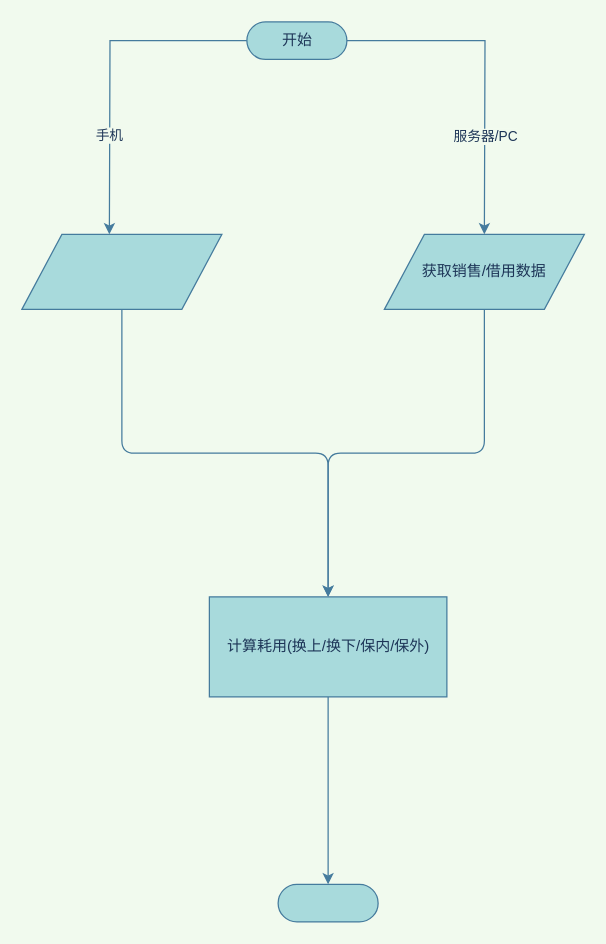
This 606x944 diagram has some shape labels left out. Each missing label, with the centre of its shape:
"结束" goes at point 327,902.
"获取维修/报废(小米中国)数据" goes at point 121,271.
